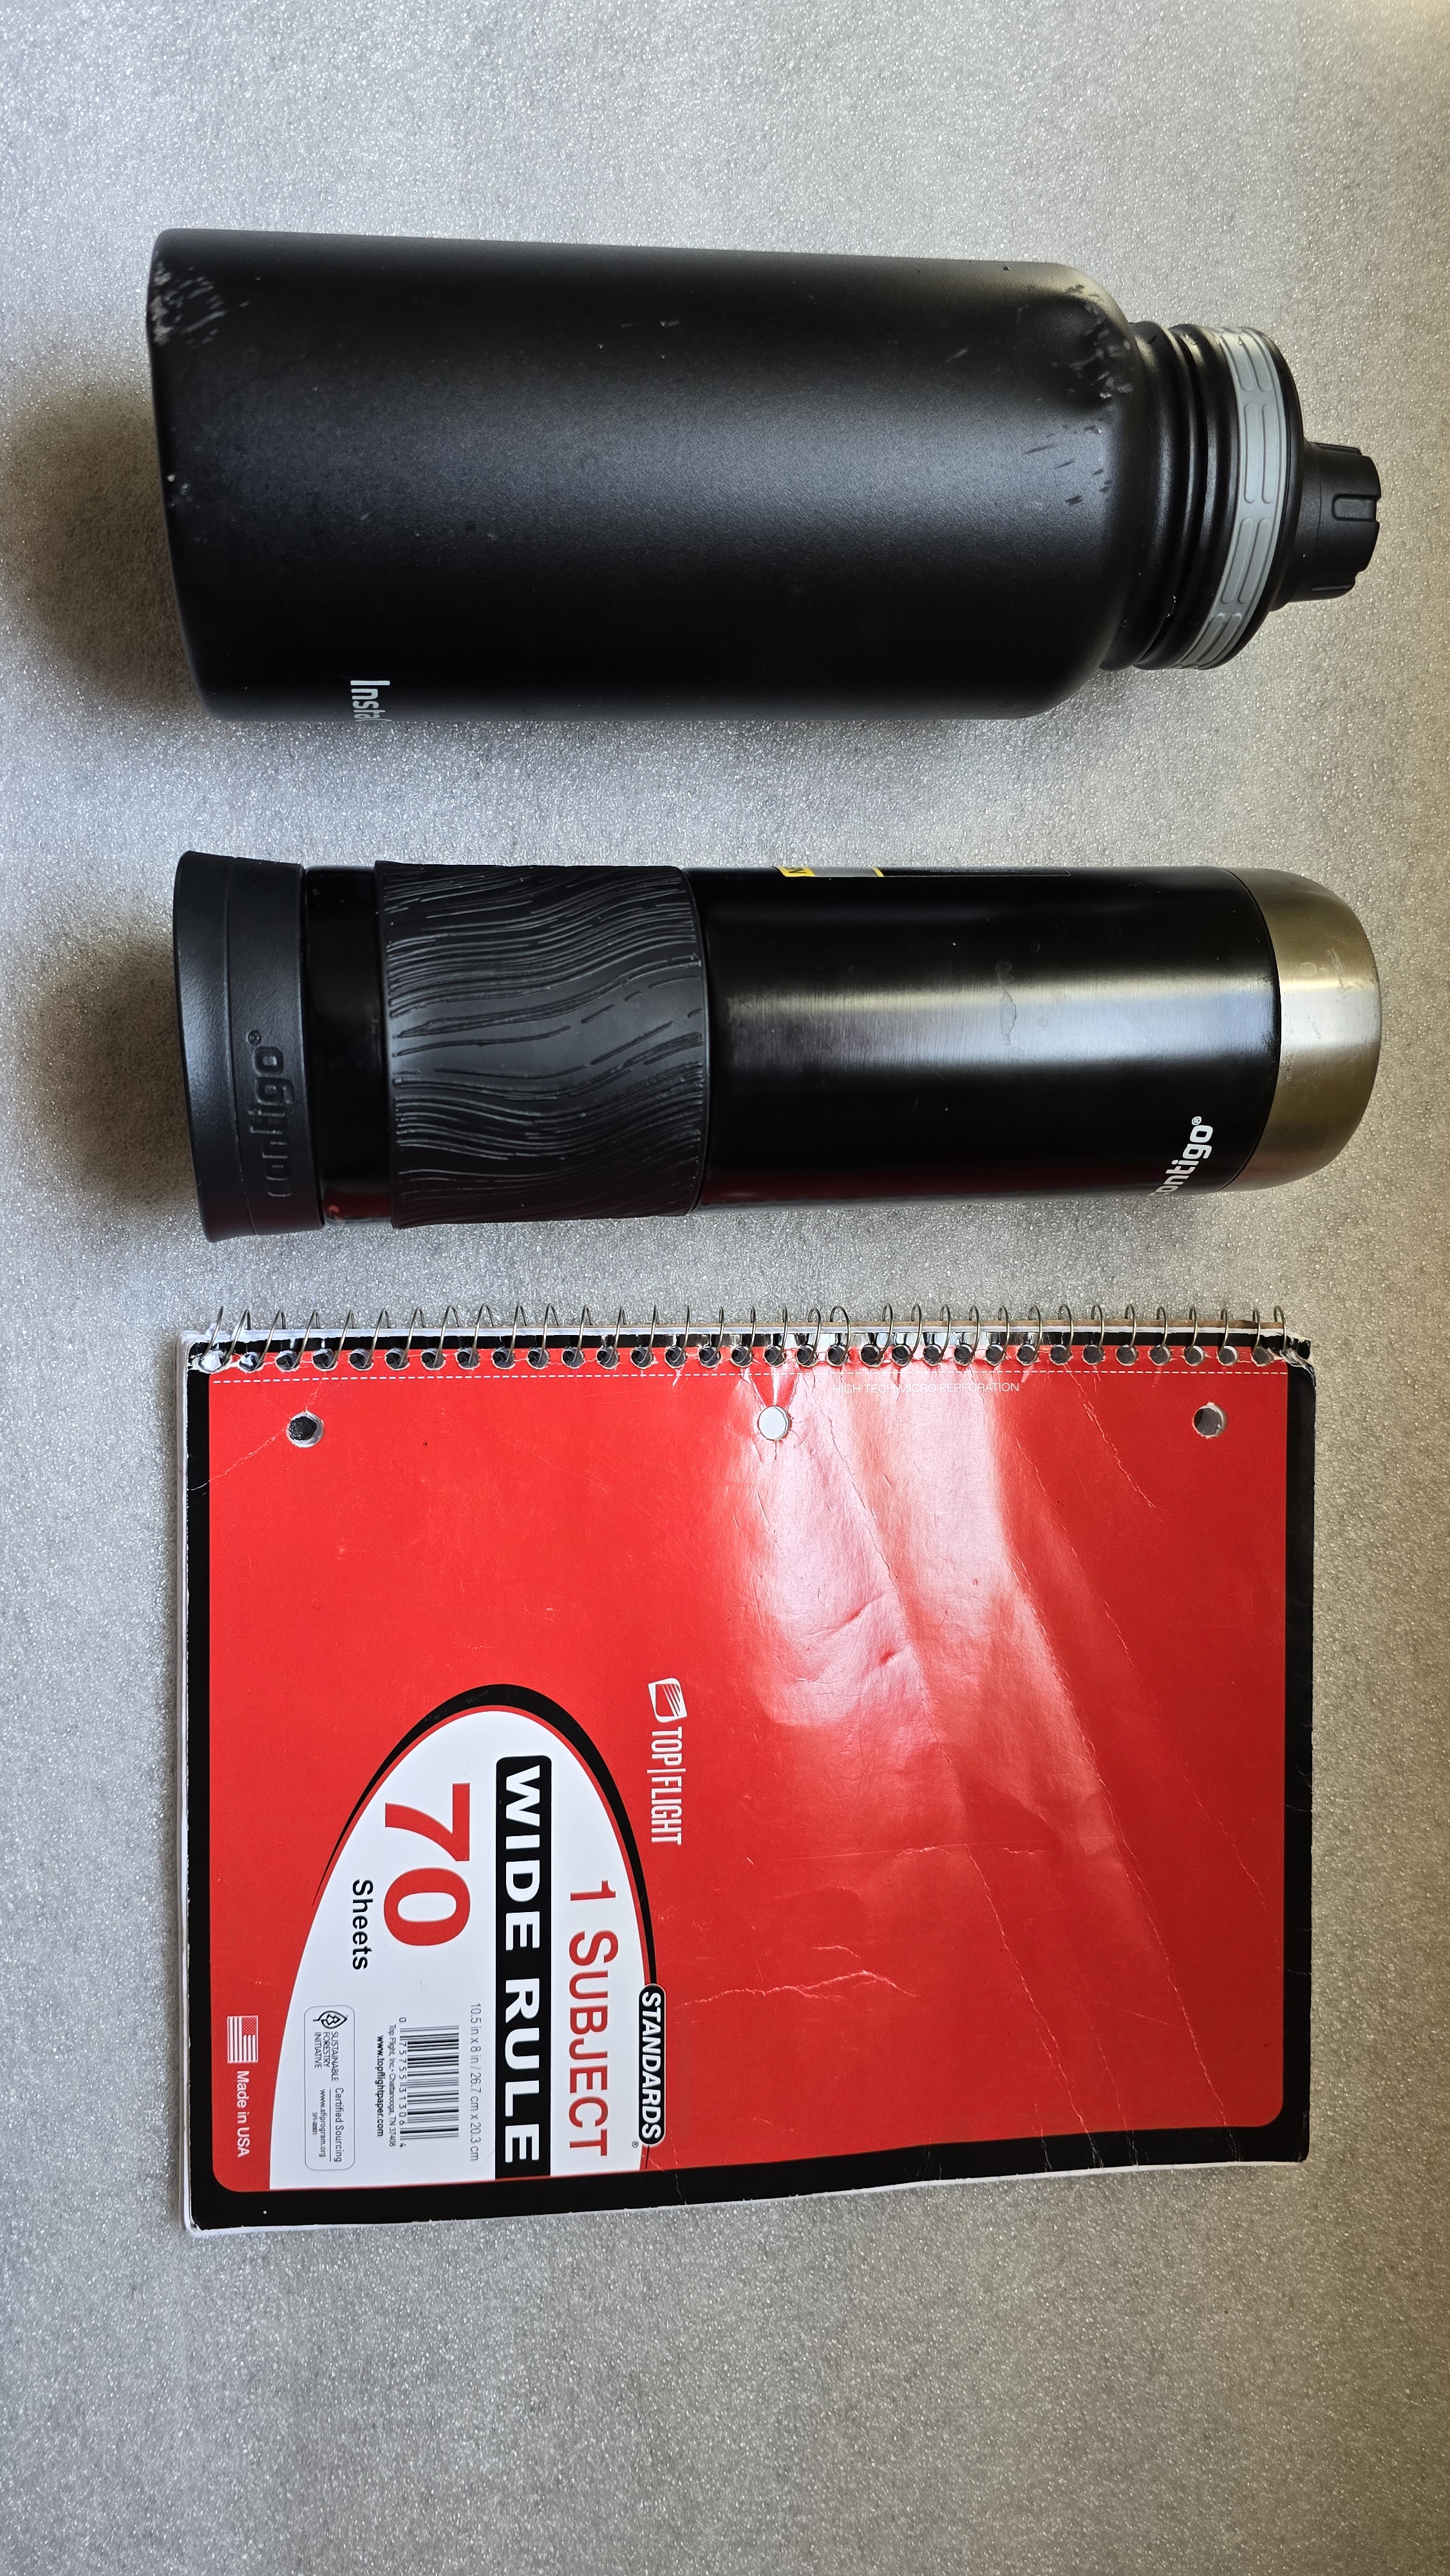bottle: (111, 218, 1397, 738), (133, 828, 1399, 1251)
